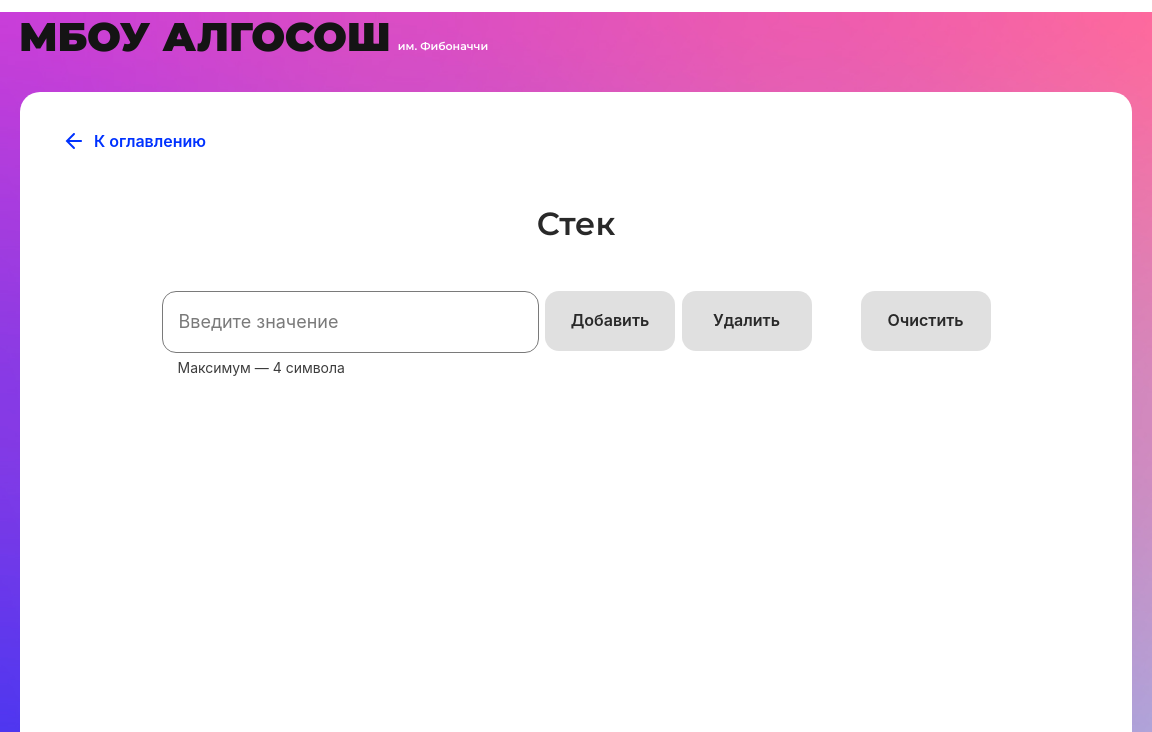
test stack page › correct stack clear
The width and height of the screenshot is (1152, 732).
Type "1" into the field with placeholder "Введите значение" at (351, 322), box [162, 291, 539, 353]
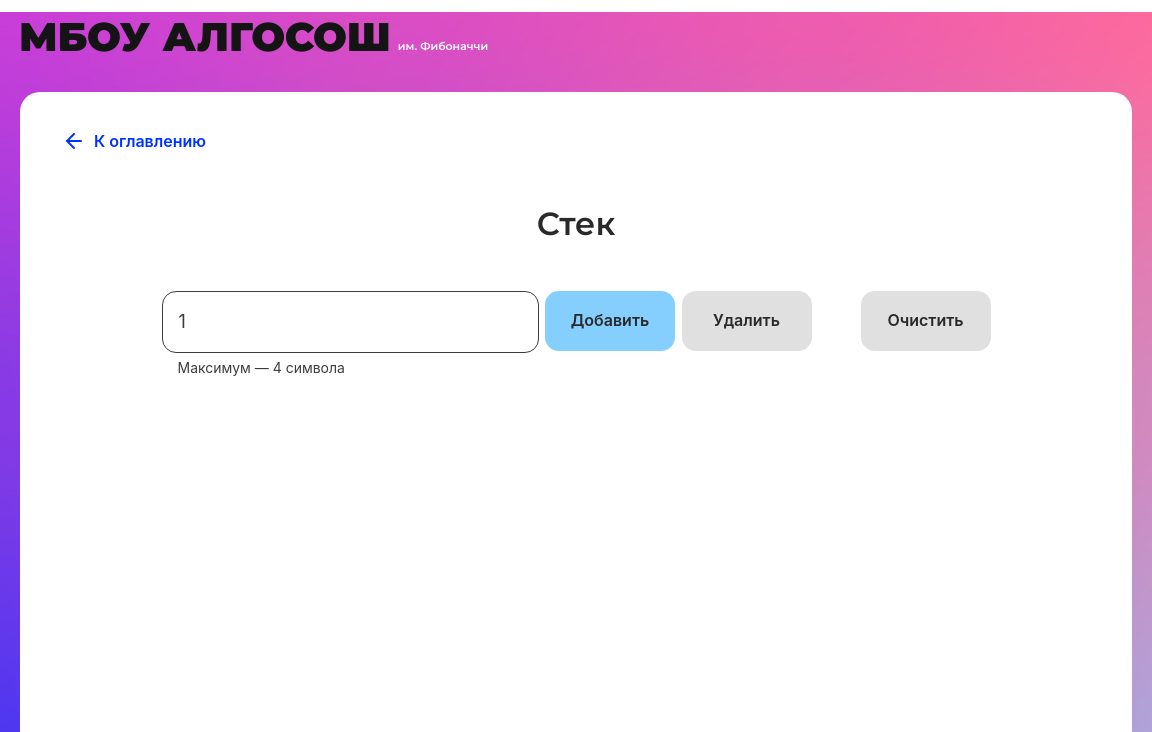
Click the button "Добавить" at (610, 321), box [545, 291, 675, 351]
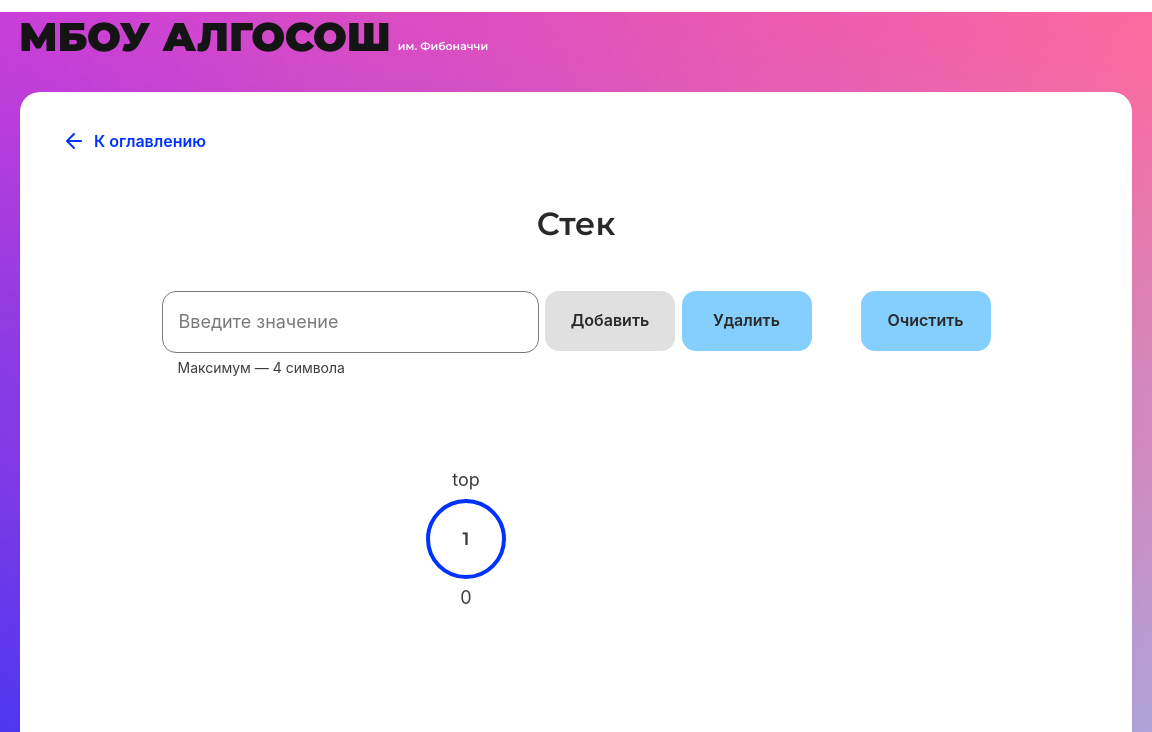
Type "2" into the field with placeholder "Введите значение" at (351, 322), box [162, 291, 539, 353]
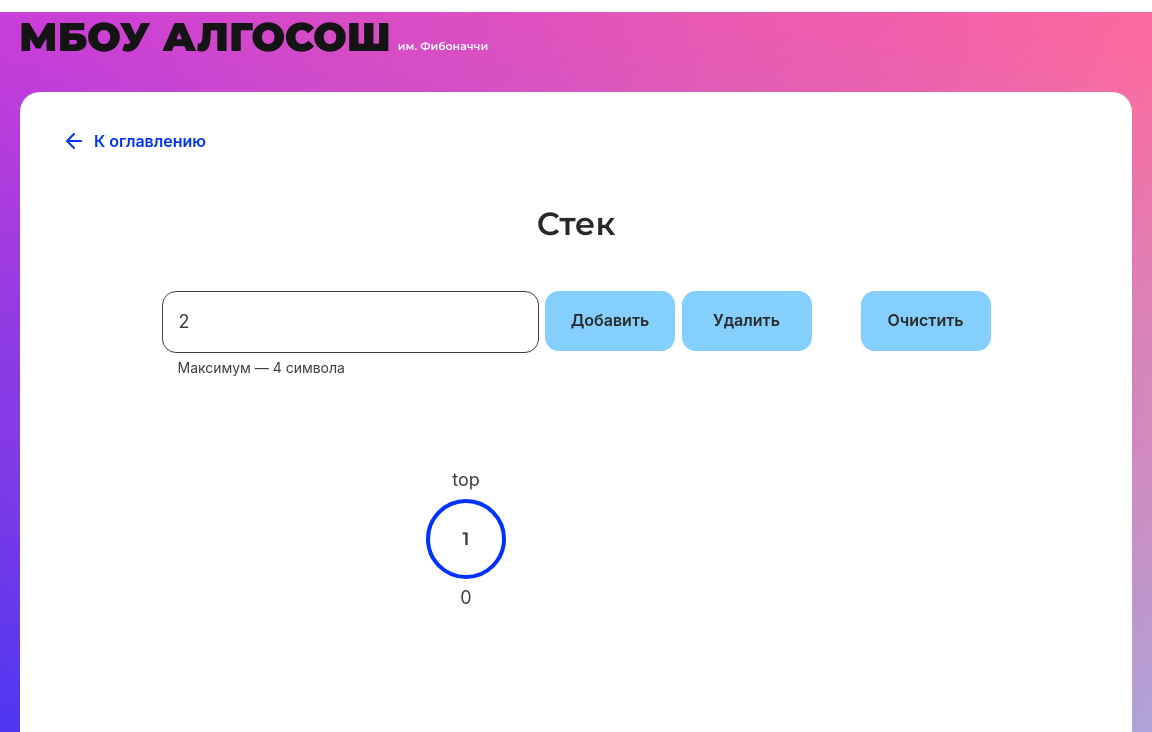
Click the button "Добавить" at (610, 321), box [545, 291, 675, 351]
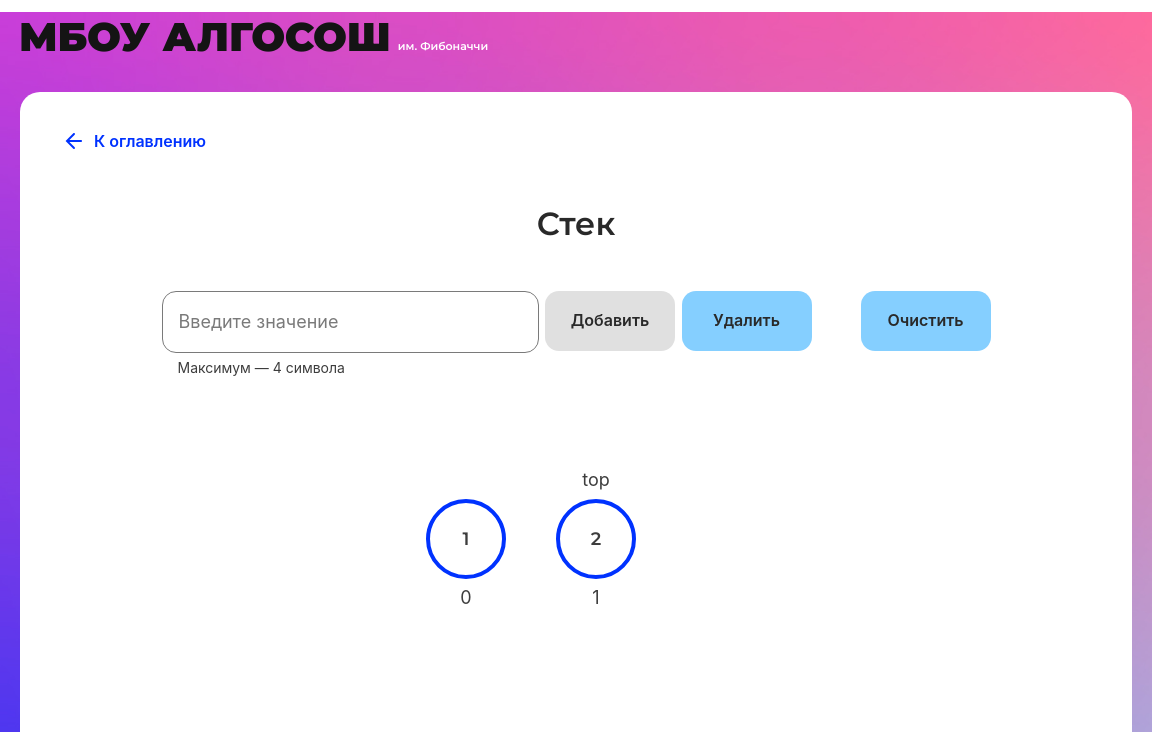
Click the button "Очистить" at (926, 321), box [861, 291, 991, 351]
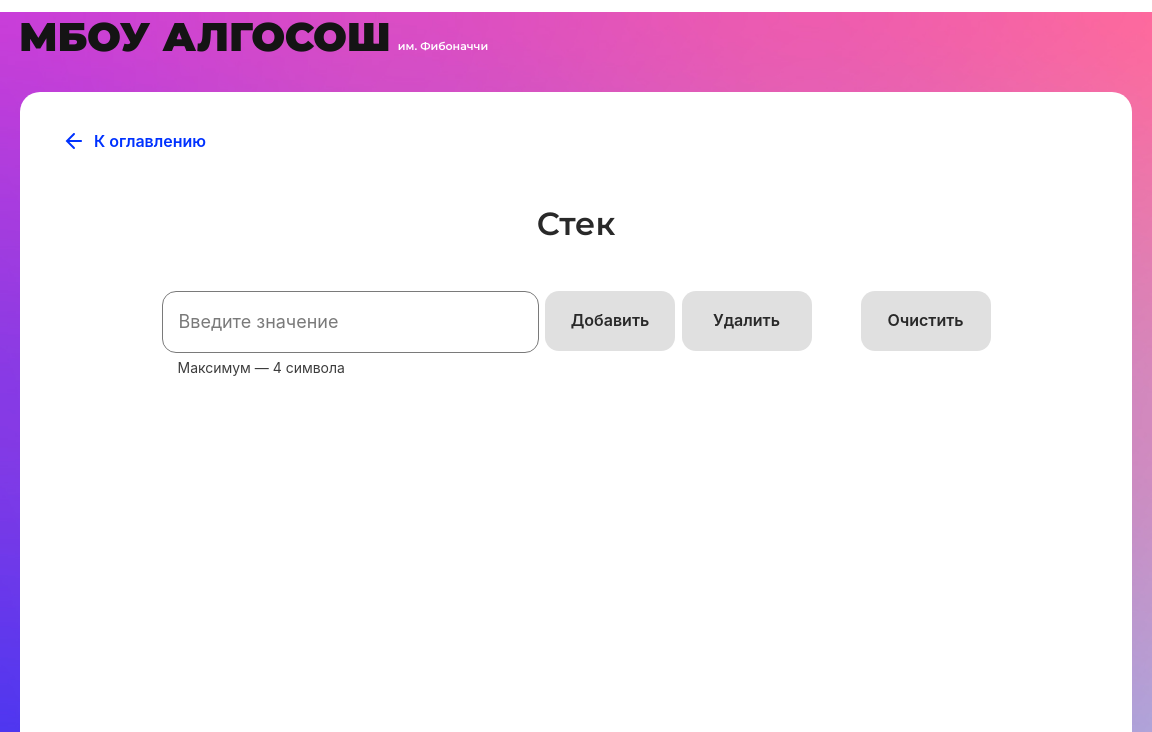
Expected: the button "Удалить" is disabled, [682, 291, 812, 351]
Expected: the button "Очистить" is disabled, [861, 291, 991, 351]
